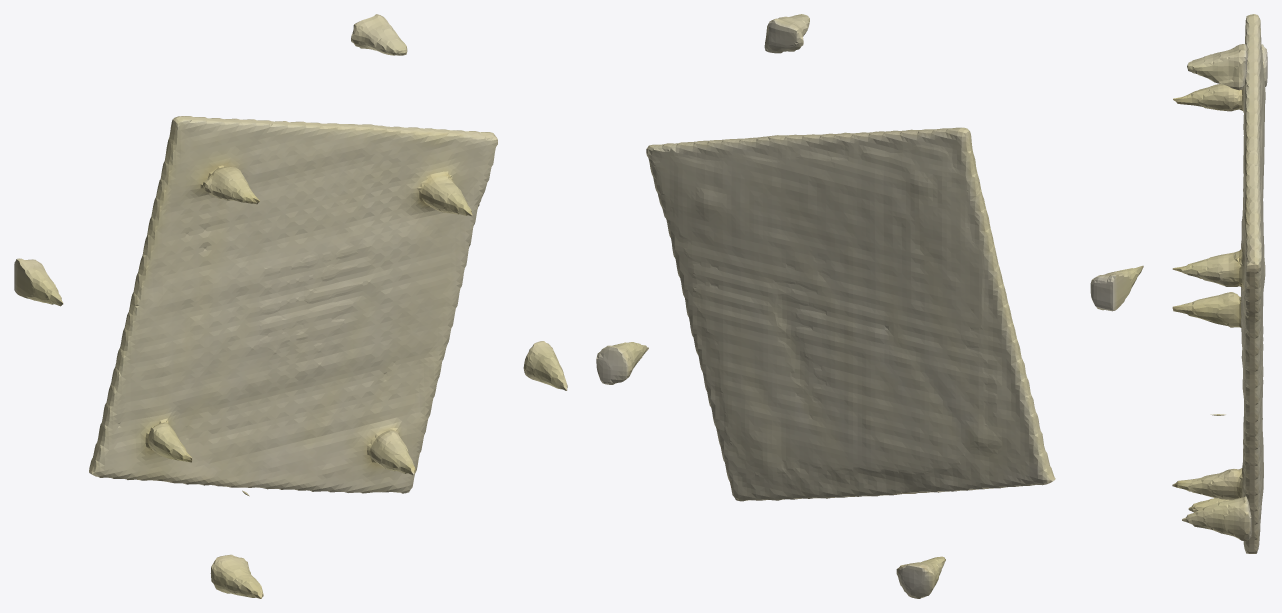
File: cheese.glb
3 views of the same model, side by side, from view 1: azimuth 30°, elevation 25°; view 2: azimuth 150°, elevation 25°; view 3: azimuth 270°, elevation 25° (orthographic).
Visible parts, largest first — view 1: geometry_0; view 2: geometry_0; view 3: geometry_0.
Boxes of the visible parts, x1,y1,x2,y2 form: geometry_0: (14,14,567,598); geometry_0: (596,14,1143,598); geometry_0: (1172,14,1267,553).
Size of the model in its own units: 1.93 by 1.92 by 0.2999.
